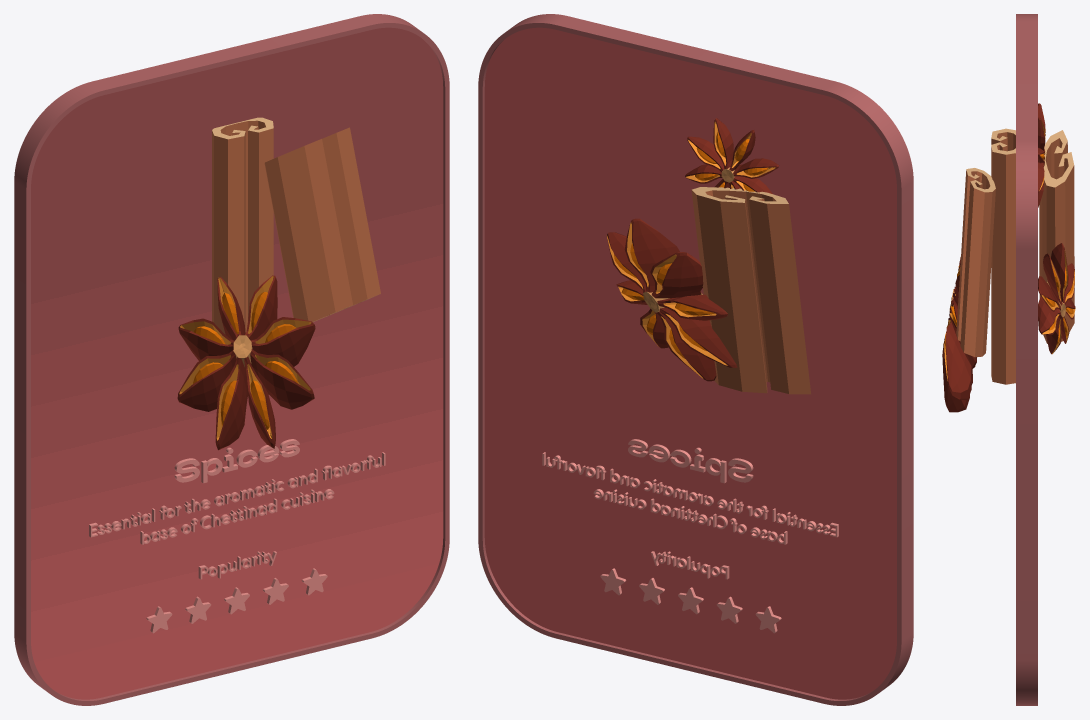
The model's file is spices.gltf.
The picture shows the model from 3 angles, left to right: view 1: azimuth 30°, elevation 25°; view 2: azimuth 150°, elevation 25°; view 3: azimuth 270°, elevation 25°; orthographic projection. The views are drawn at different scales.
Visible parts, largest first — view 1: Mesh_983.002, Mesh_2360.002, cinnamon stick.001, starAnise, cinnamon stick, Mesh_2567.002, Mesh_2660.001, Mesh_2167.002; view 2: Mesh_983.002, Mesh_2360.002, cinnamon stick.002, starAnise.002, Mesh_2567.002, starAnise.001, Mesh_2660.001, Mesh_2167.002; view 3: Mesh_2360.002, cinnamon stick, cinnamon stick.001, cinnamon stick.002, starAnise.002, starAnise, starAnise.001.
Boxes of the visible parts, box(x1,y1,x2,y2) form: Mesh_983.002: box(31, 27, 443, 699); Mesh_2360.002: box(14, 14, 449, 705); cinnamon stick.001: box(264, 127, 380, 321); starAnise: box(177, 275, 315, 450); cinnamon stick: box(212, 117, 273, 334); Mesh_2567.002: box(89, 452, 385, 579); Mesh_2660.001: box(146, 568, 327, 633); Mesh_2167.002: box(174, 439, 299, 483); Mesh_983.002: box(484, 27, 896, 699); Mesh_2360.002: box(478, 14, 913, 705); cinnamon stick.002: box(691, 187, 810, 394); starAnise.002: box(606, 218, 737, 381); Mesh_2567.002: box(542, 452, 838, 579); starAnise.001: box(685, 118, 779, 193); Mesh_2660.001: box(600, 568, 781, 633); Mesh_2167.002: box(628, 439, 753, 483); Mesh_2360.002: box(1016, 14, 1037, 705); cinnamon stick: box(991, 128, 1015, 384); cinnamon stick.001: box(956, 168, 995, 357); cinnamon stick.002: box(1039, 130, 1074, 343); starAnise.002: box(1038, 243, 1075, 354); starAnise: box(942, 257, 977, 412); starAnise.001: box(1038, 103, 1045, 207).
Size of the model in its own units: 0.3625 by 0.5019 by 0.1086.
46 materials, 26 textured.
